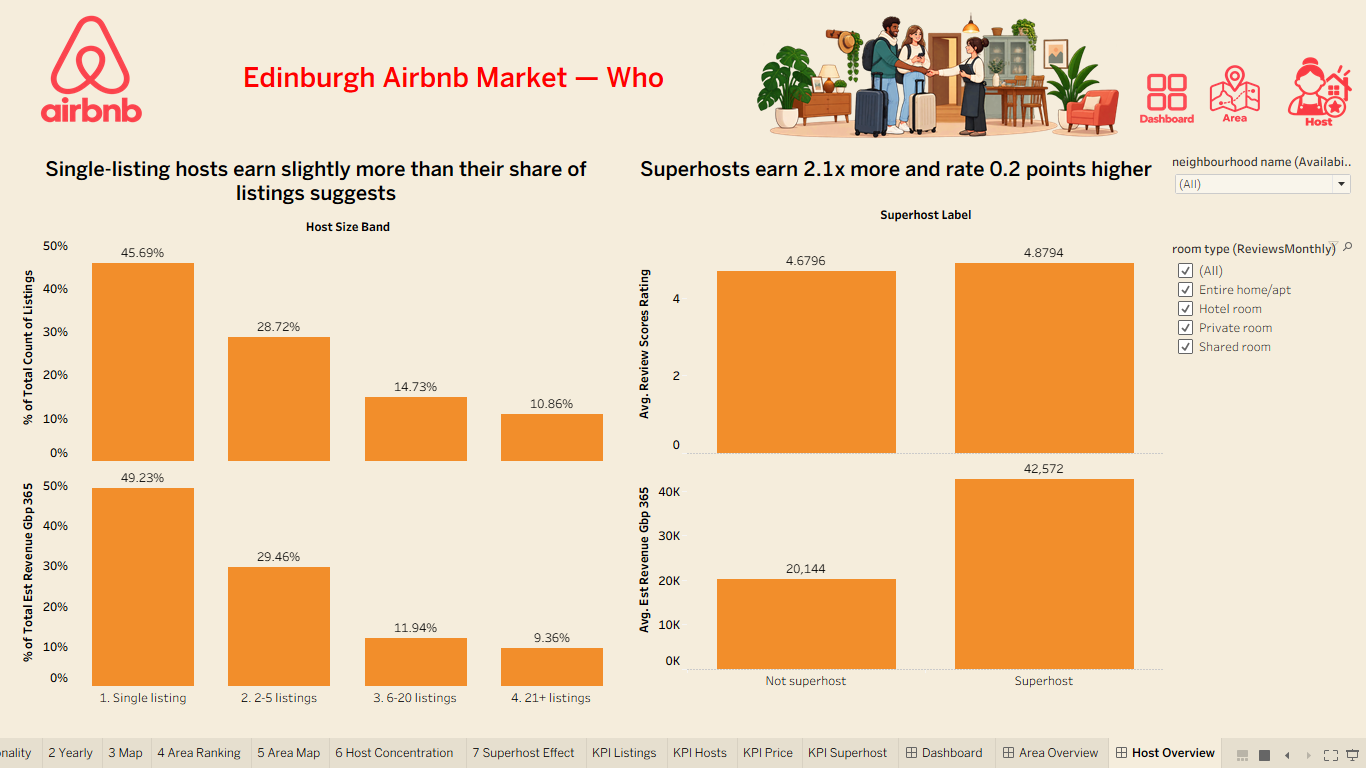

What the dashboard file says about the page in this screenshot:
{"tool":"tableau","page":{"name":"Host Overview","canvas":[1000,1000],"units":"permille","ordinal":2},"visuals":[{"type":"image","param":"Image/airbnb_transs.png","box":[6.9,13.7,122,190]},{"type":"text","box":[128.9,13.7,407,190]},{"type":"image","param":"Image/cover2.png","box":[535.9,13.7,457.2,190]},{"type":"dashboard-object","box":[931.6,66.8,66.7,109.6]},{"type":"dashboard-object","box":[875.3,75.3,57.1,99.3]},{"type":"dashboard-object","box":[824.2,80.5,58.9,97.6]},{"type":"worksheet","title":"6 Host Concentration","mark":"Automatic","rows":["Listings_982D4B15050E4DA4B403ECF4D569569A","est_revenue_gbp_365"],"cols":["host_size_band"],"box":[6.9,203.7,450.1,782.6]},{"type":"worksheet","title":"7 Superhost Effect","mark":"Automatic","rows":["review_scores_rating","est_revenue_gbp_365"],"cols":["superhost_label"],"box":[457,203.7,397.4,782.6]},{"type":"filter","title":"6 Host Concentration","param":"[federated.02z5b560t1qu2o17z52n81a1xp0l].[none:neighbourhood_name (AvailabilityM","box":[854.4,203.7,138.6,117.2]},{"type":"filter","title":"6 Host Concentration","param":"[federated.02z5b560t1qu2o17z52n81a1xp0l].[none:room_type (ReviewsMonthly):nk]","box":[854.4,320.9,138.6,665.4]}]}

Visuals, with their boxes on the dashboard's canvas, which has no fixed pixel size, in thousandths of its width and height (x1, y1, x2, y2). These are canvas units, not pixel positions in the 1366x768 screenshot, which may show the page scaled, cropped or inside an application window:
image: left=7, top=14, right=129, bottom=204
text: left=129, top=14, right=536, bottom=204
image: left=536, top=14, right=993, bottom=204
dashboard-object: left=932, top=67, right=998, bottom=176
dashboard-object: left=875, top=75, right=932, bottom=175
dashboard-object: left=824, top=80, right=883, bottom=178
"6 Host Concentration" worksheet: left=7, top=204, right=457, bottom=986
"7 Superhost Effect" worksheet: left=457, top=204, right=854, bottom=986
"6 Host Concentration" filter: left=854, top=204, right=993, bottom=321
"6 Host Concentration" filter: left=854, top=321, right=993, bottom=986
